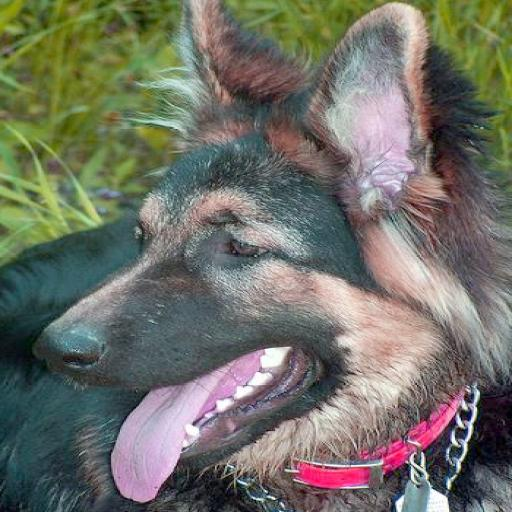dog_face: (67, 10, 451, 455)
